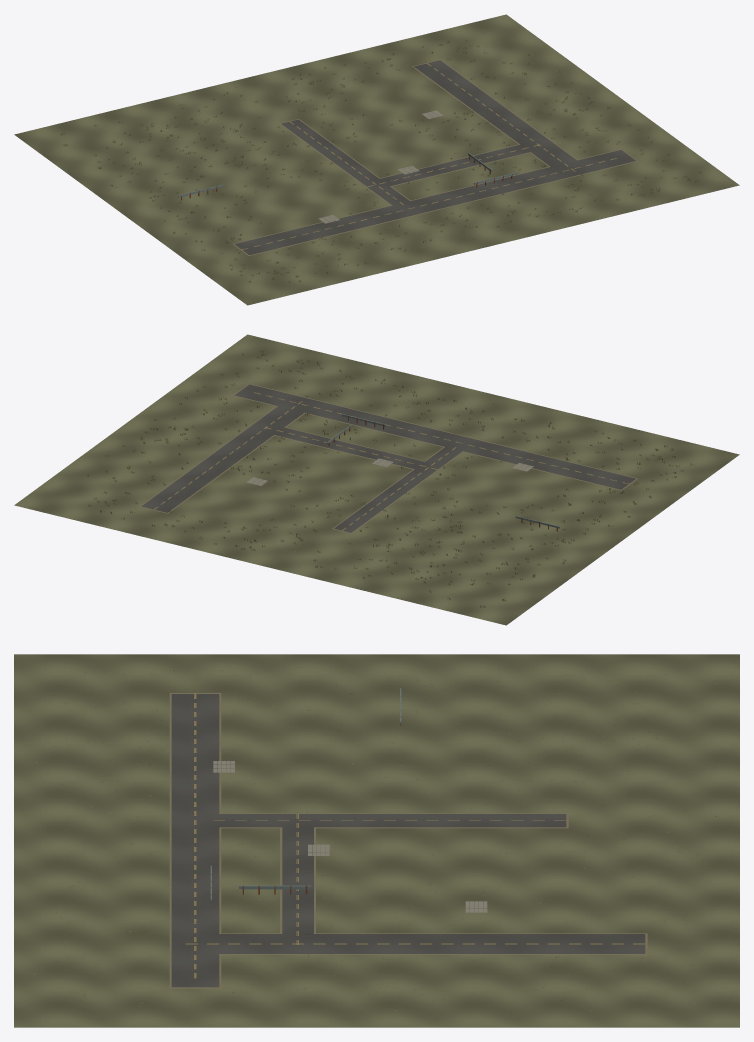
Rendered from terrain.glb.
The picture shows the model from 3 angles, top to bottom: view 1: azimuth 30°, elevation 25°; view 2: azimuth 150°, elevation 25°; view 3: azimuth 270°, elevation 25°; orthographic projection. The views are drawn at different scales.
Visible parts, largest first — view 1: Terrain, Grass; view 2: Terrain, Grass; view 3: Terrain.
Boxes of the visible parts, x1,y1,x2,y2 form: Terrain: (14,14,739,305); Grass: (60,40,701,282); Terrain: (14,334,739,625); Grass: (87,349,694,607); Terrain: (14,654,739,1027).
Bounding box in the file's own units: 56 × 0.58 × 46.
11 materials, 11 textured.
